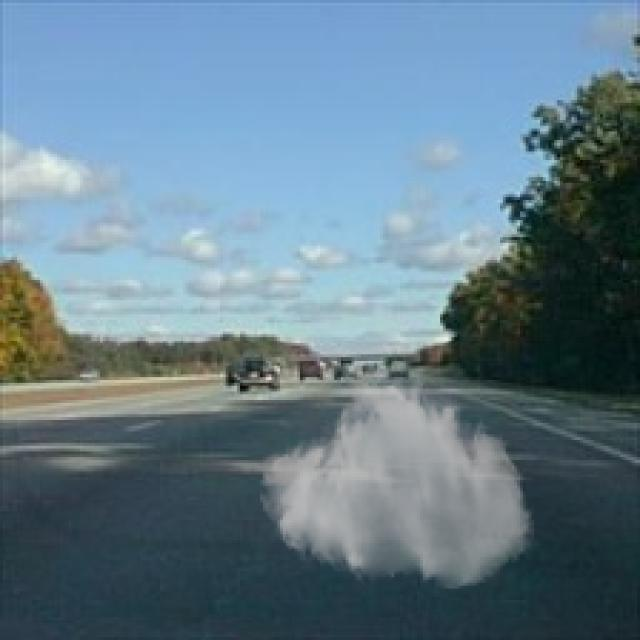Smoke: (257, 368, 537, 592)
